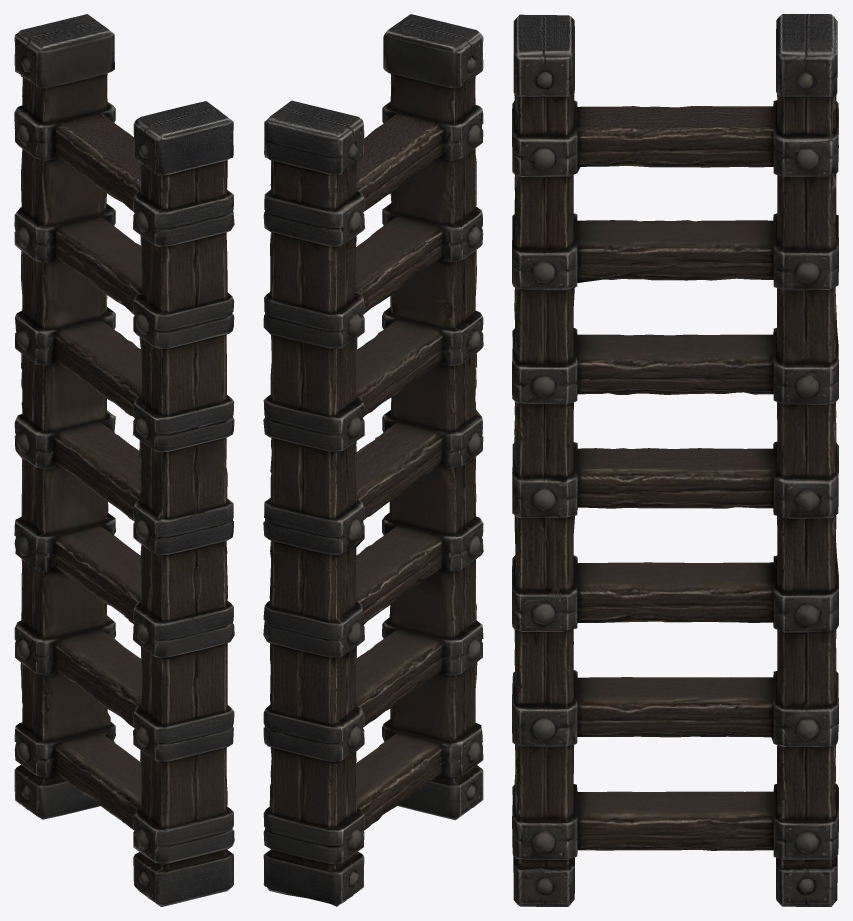
The model's file is Ladder.fbx.
3 renders of one model, left to right at view 1: azimuth 30°, elevation 25°; view 2: azimuth 150°, elevation 25°; view 3: azimuth 270°, elevation 25°, orthographic. The views are drawn at different scales.
Visible parts, largest first — view 1: Ladder; view 2: Ladder; view 3: Ladder.
Boxes of the visible parts, left/top/right/bottom form: Ladder: left=14, top=14, right=234, bottom=906; Ladder: left=263, top=14, right=483, bottom=906; Ladder: left=512, top=14, right=838, bottom=906.
Bounding box in the file's own units: 36.41 × 290 × 100.
Materials: 1 (1 with a texture image).
